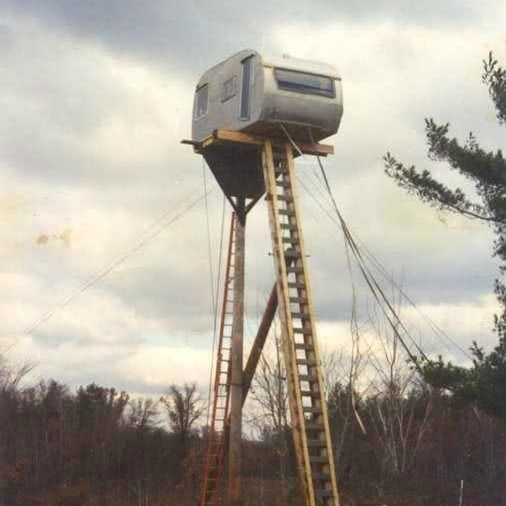sky: (1, 1, 488, 349)
trailer home: (167, 38, 348, 144)
vegetation: (1, 382, 481, 506)
